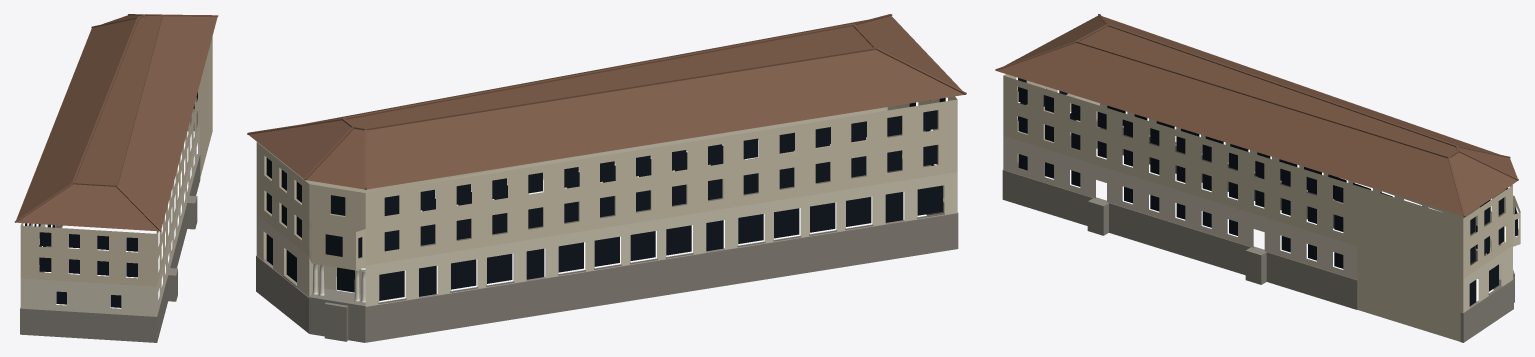
Rendered from genpetrova1.lod.glb.
3 views of the same model, side by side, from view 1: azimuth 30°, elevation 25°; view 2: azimuth 150°, elevation 25°; view 3: azimuth 270°, elevation 25° (orthographic). The views are drawn at different scales.
Parts seen in each view (by area): view 1: genpetrova1_roof, genpetrova1_wall, genpetrova1_stone, genpetrova1_wall2, genpetrova1_glass; view 2: genpetrova1_roof, genpetrova1_wall, genpetrova1_stone, genpetrova1_glass, genpetrova1_wall2, genpetrova1_trim_s; view 3: genpetrova1_roof, genpetrova1_wall, genpetrova1_stone, genpetrova1_wall2, genpetrova1_glass.
Part boxes in pixels (bbox=[...]): genpetrova1_roof: bbox=[14, 14, 218, 231]; genpetrova1_wall: bbox=[20, 36, 212, 286]; genpetrova1_stone: bbox=[20, 106, 212, 342]; genpetrova1_wall2: bbox=[20, 125, 199, 316]; genpetrova1_glass: bbox=[25, 92, 197, 307]; genpetrova1_roof: bbox=[247, 14, 966, 189]; genpetrova1_wall: bbox=[256, 96, 957, 283]; genpetrova1_stone: bbox=[256, 154, 958, 342]; genpetrova1_glass: bbox=[266, 98, 945, 300]; genpetrova1_wall2: bbox=[256, 106, 957, 306]; genpetrova1_trim_s: bbox=[312, 263, 365, 302]; genpetrova1_roof: bbox=[995, 14, 1518, 216]; genpetrova1_wall: bbox=[1003, 74, 1520, 341]; genpetrova1_stone: bbox=[1002, 119, 1514, 342]; genpetrova1_wall2: bbox=[1003, 96, 1512, 312]; genpetrova1_glass: bbox=[1018, 78, 1517, 306].
Size of the model in its own units: 48.94 by 17.42 by 53.81.
